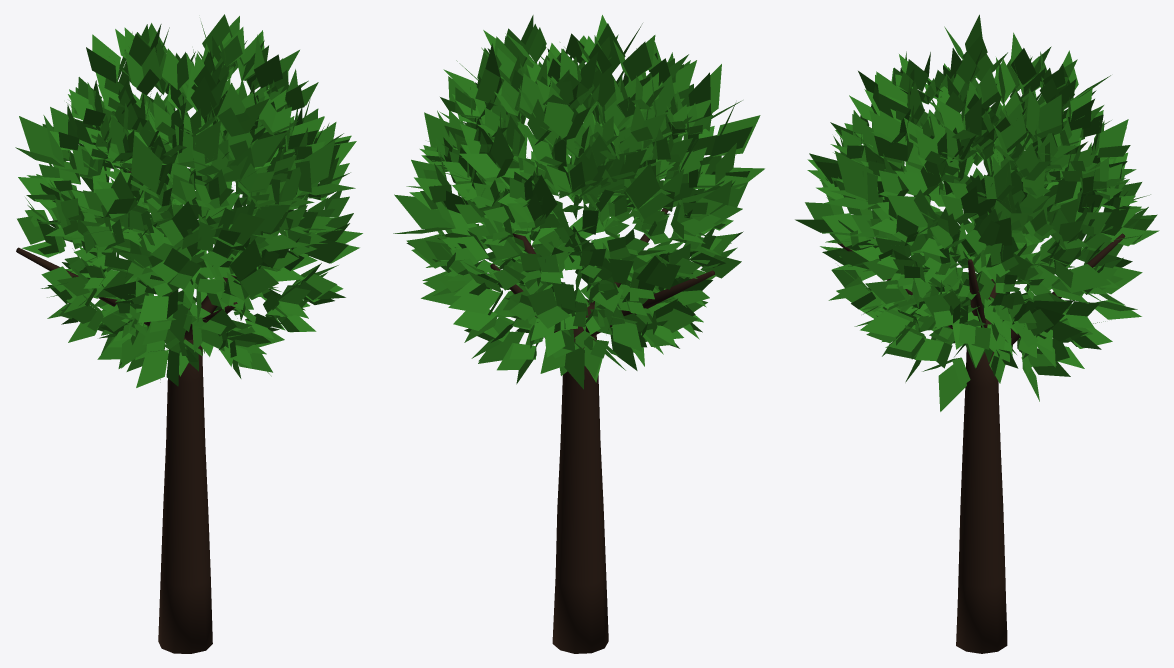
The model's file is Tree_05_A_LOD0.obj.
3 renders of one model, left to right at view 1: azimuth 30°, elevation 25°; view 2: azimuth 150°, elevation 25°; view 3: azimuth 270°, elevation 25°, orthographic. The views are drawn at different scales.
Parts seen in each view (by area): view 1: Leaves, Trunk; view 2: Leaves, Trunk; view 3: Leaves, Trunk.
Part boxes in pixels (left/top/right/bottom): Leaves: left=15, top=14, right=362, bottom=387; Trunk: left=16, top=168, right=237, bottom=653; Leaves: left=393, top=15, right=764, bottom=389; Trunk: left=490, top=208, right=714, bottom=653; Leaves: left=795, top=14, right=1159, bottom=411; Trunk: left=837, top=233, right=1125, bottom=653.
Bounding box in the file's own units: 2.92 × 5.49 × 3.04.
